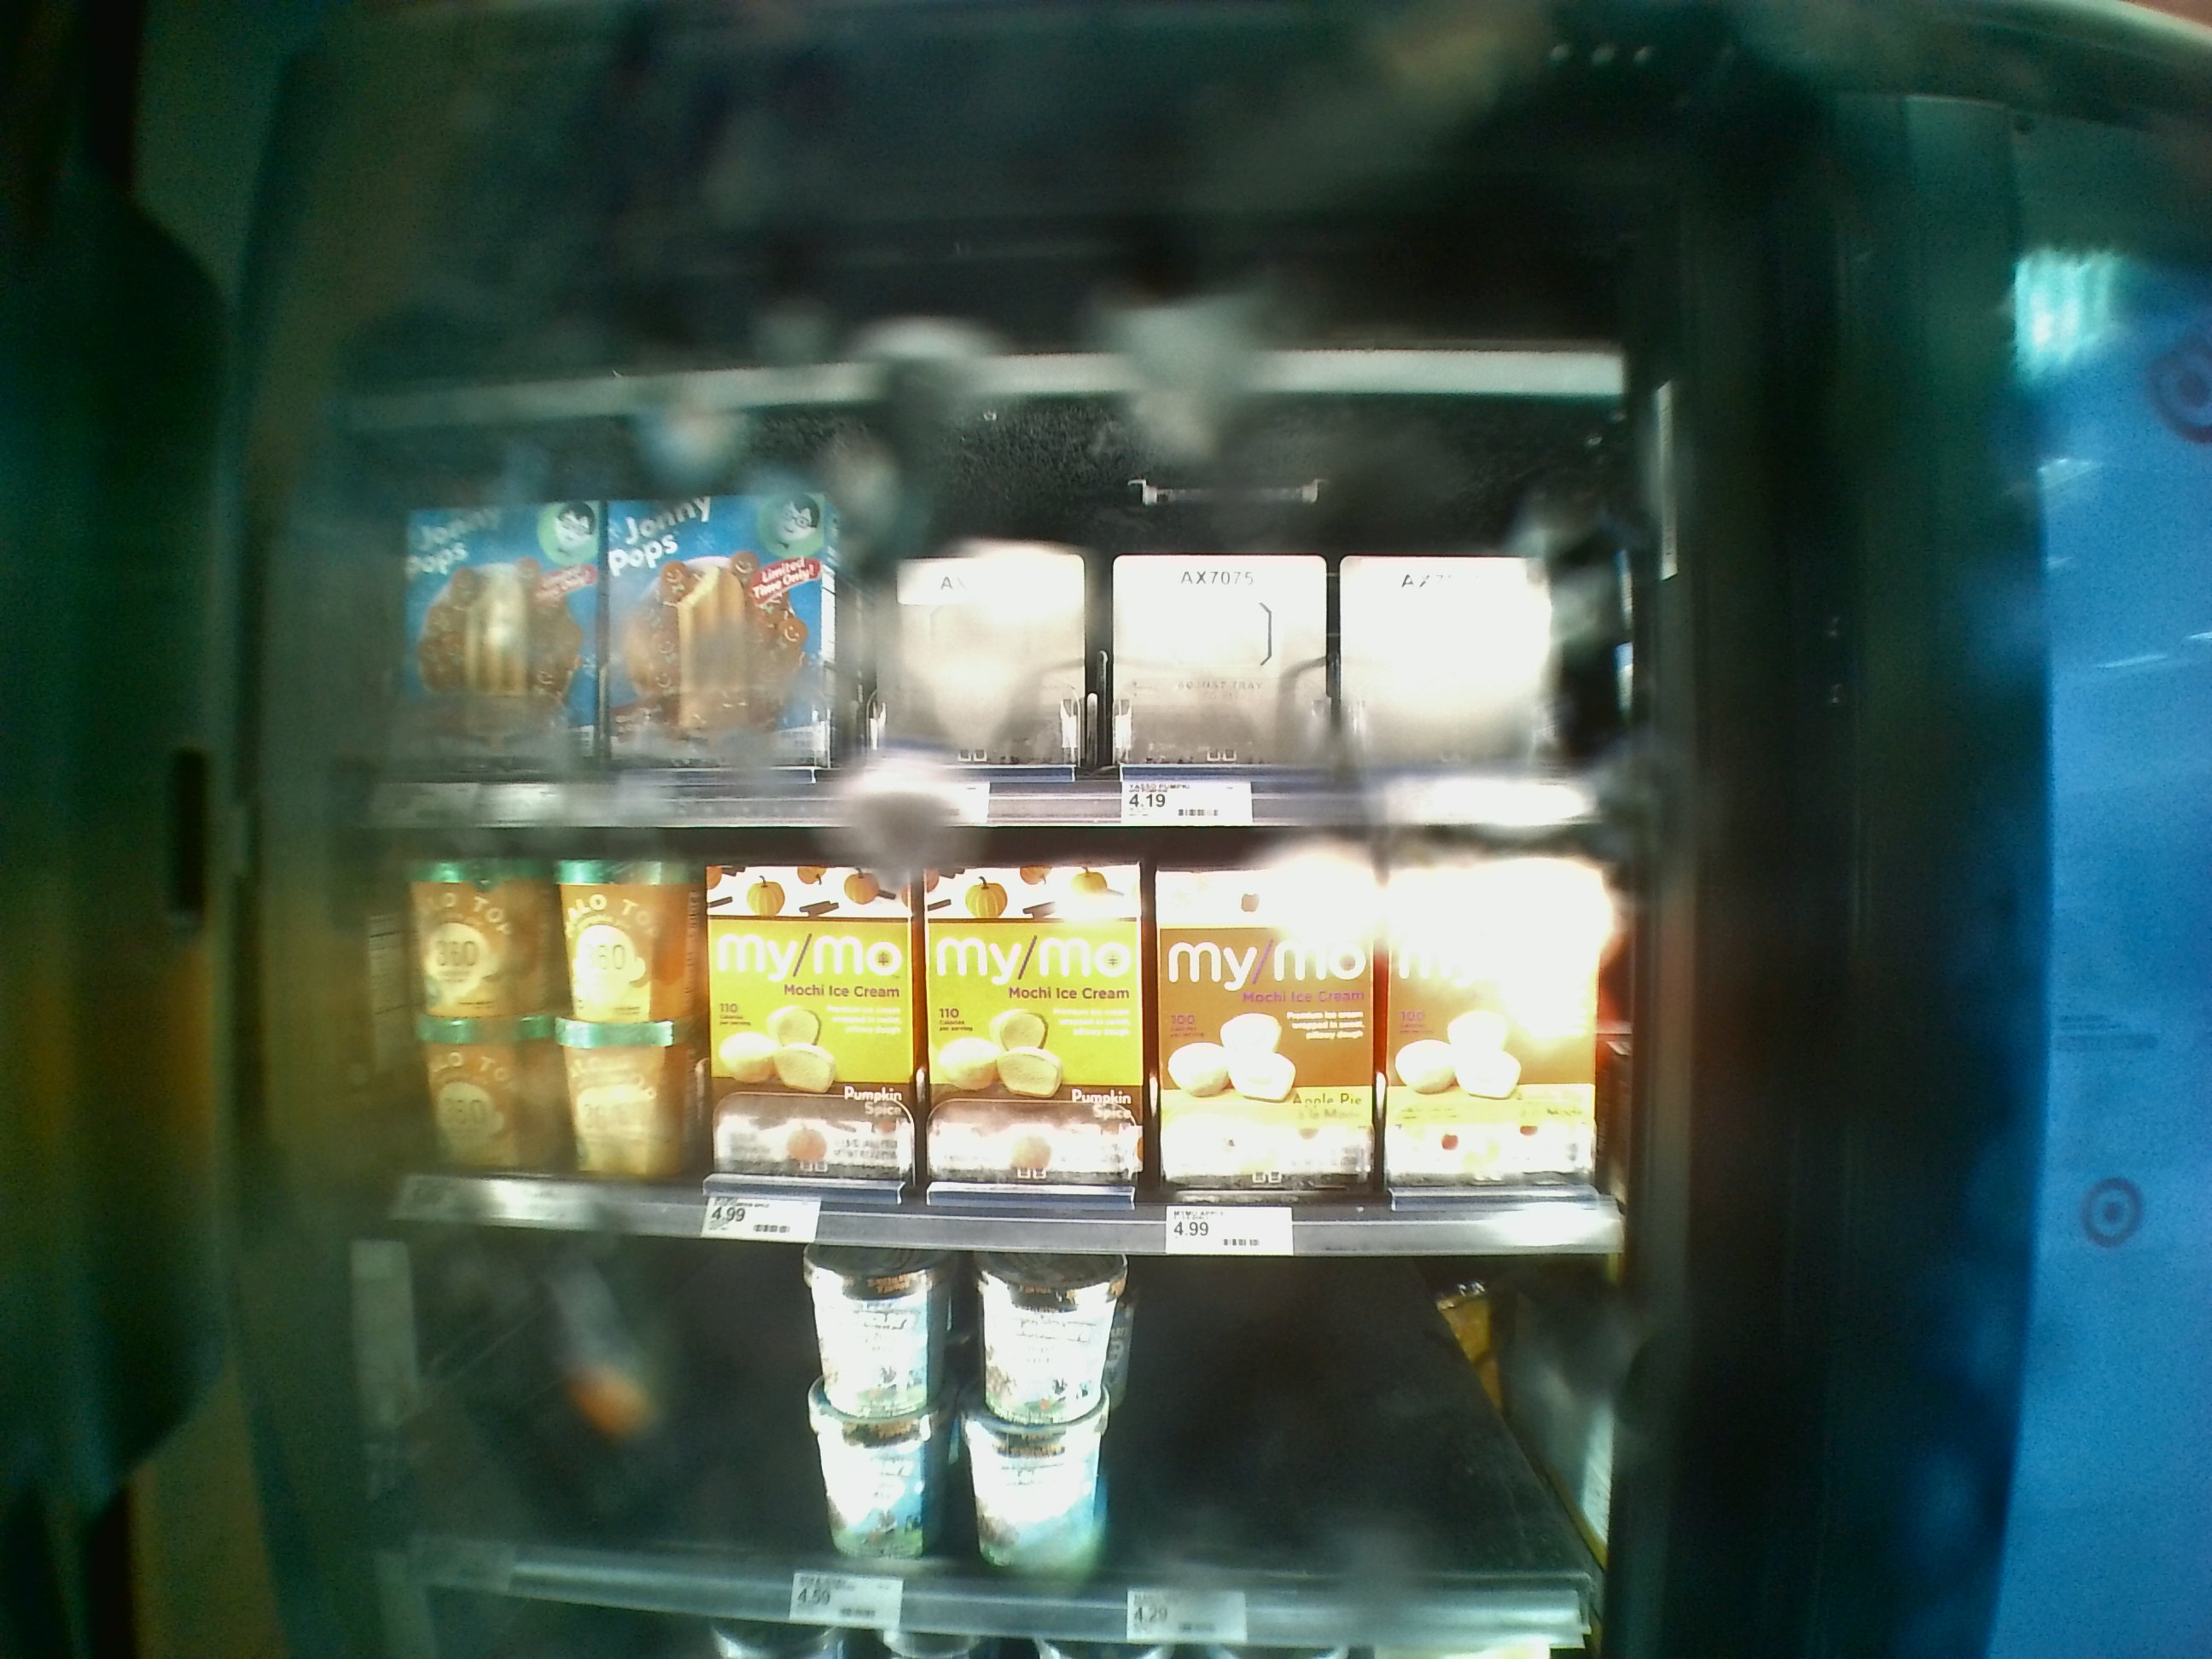shelf: (369, 786, 1627, 1243), (359, 1185, 1616, 1635), (333, 380, 1620, 816)
